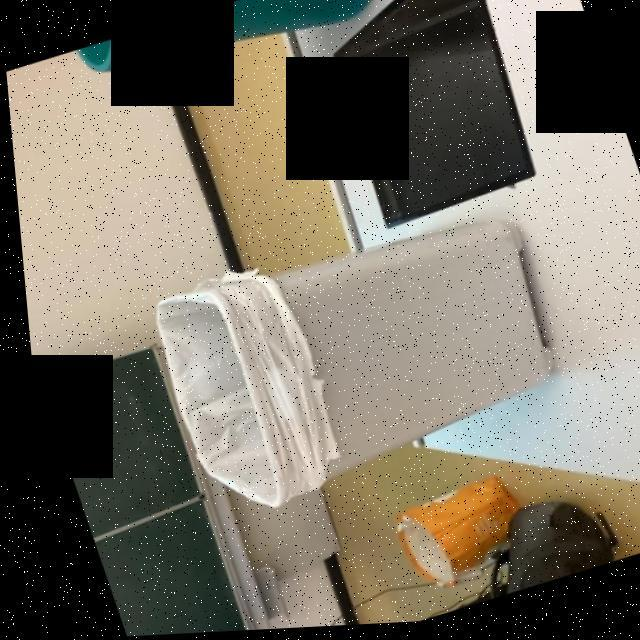bin: (62, 143, 640, 569), (19, 0, 469, 116)
